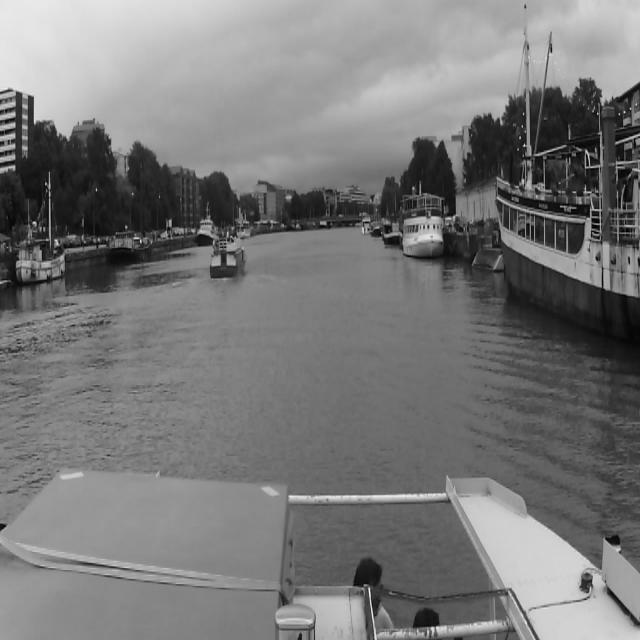ship: (493, 0, 640, 356), (15, 172, 65, 288), (402, 192, 444, 266), (209, 233, 247, 282), (106, 231, 154, 266), (194, 200, 222, 248), (237, 208, 249, 236), (386, 219, 396, 241), (361, 217, 371, 235), (295, 218, 301, 230), (291, 218, 296, 230)
